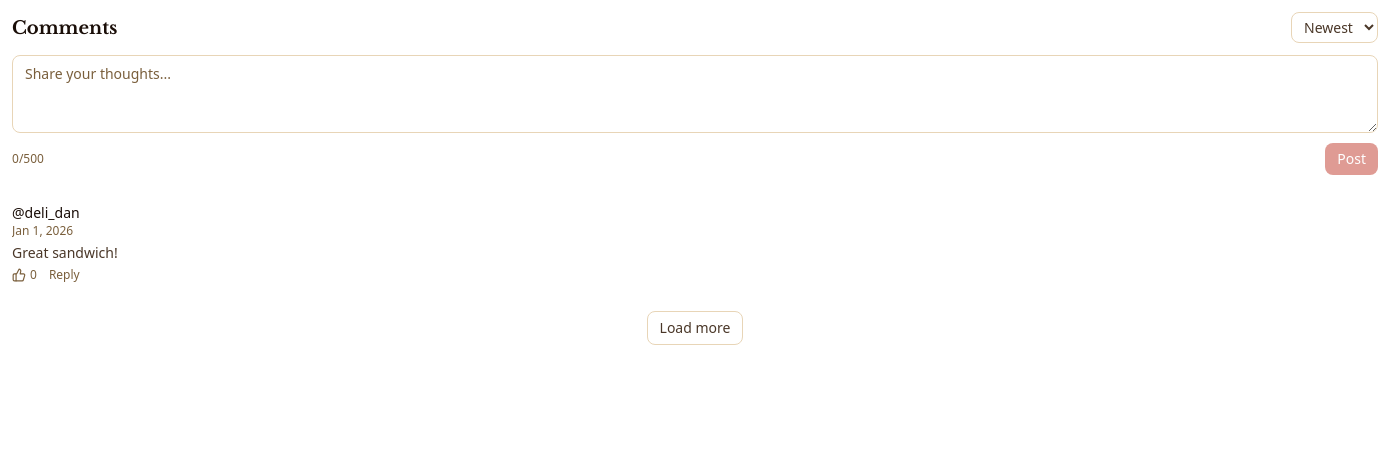
Test: CommentSection › shows "Load more" when more comments exist, and fetches the next page on click
Click the button "Load more": (695, 328) [647, 311, 744, 345]
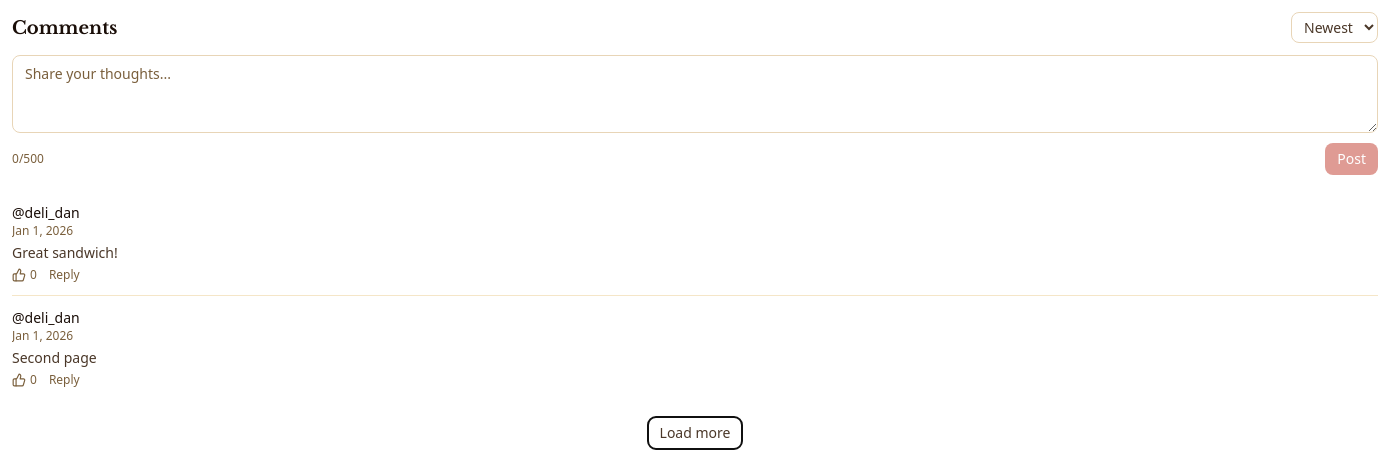
Expected: the text "Great sandwich!" is shown, [12, 243, 118, 262]
Expected: the text "Second page" is shown, [12, 348, 97, 367]
